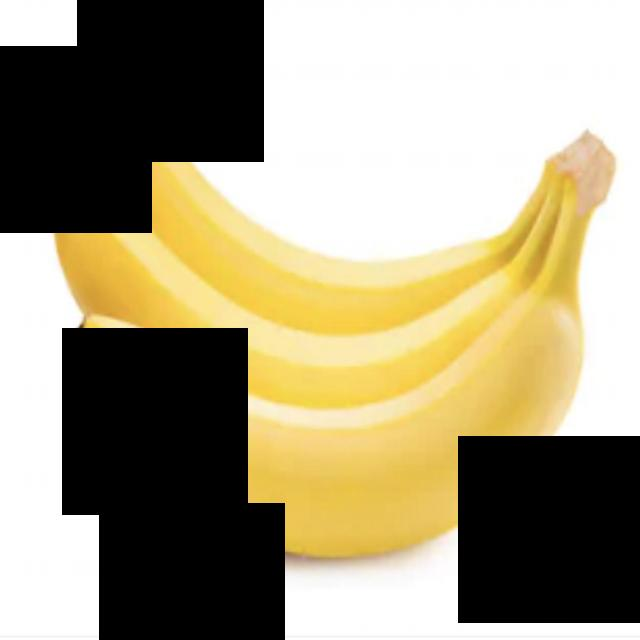banana: (61, 174, 635, 555), (35, 0, 527, 322), (23, 131, 545, 417)
